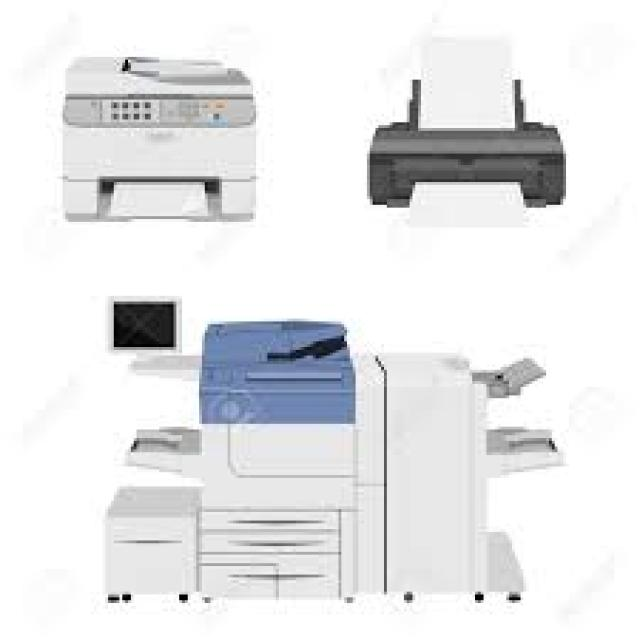printer: (102, 316, 564, 606), (358, 34, 574, 235), (57, 51, 256, 222)
